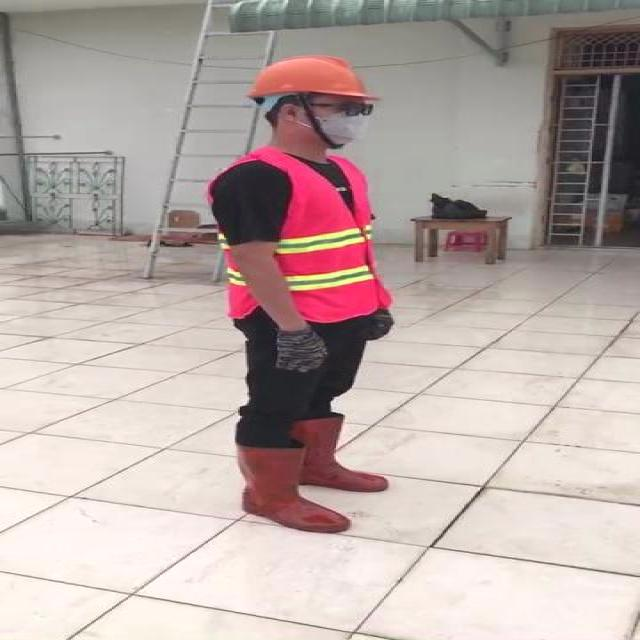boots: (268, 408, 398, 497), (240, 441, 348, 536)
face_mask: (306, 96, 377, 146)
glasses: (305, 97, 381, 120)
hand_glove: (272, 326, 334, 373)
head_helmet: (242, 52, 375, 100)
person: (201, 50, 412, 542)
vest: (206, 144, 388, 319)
